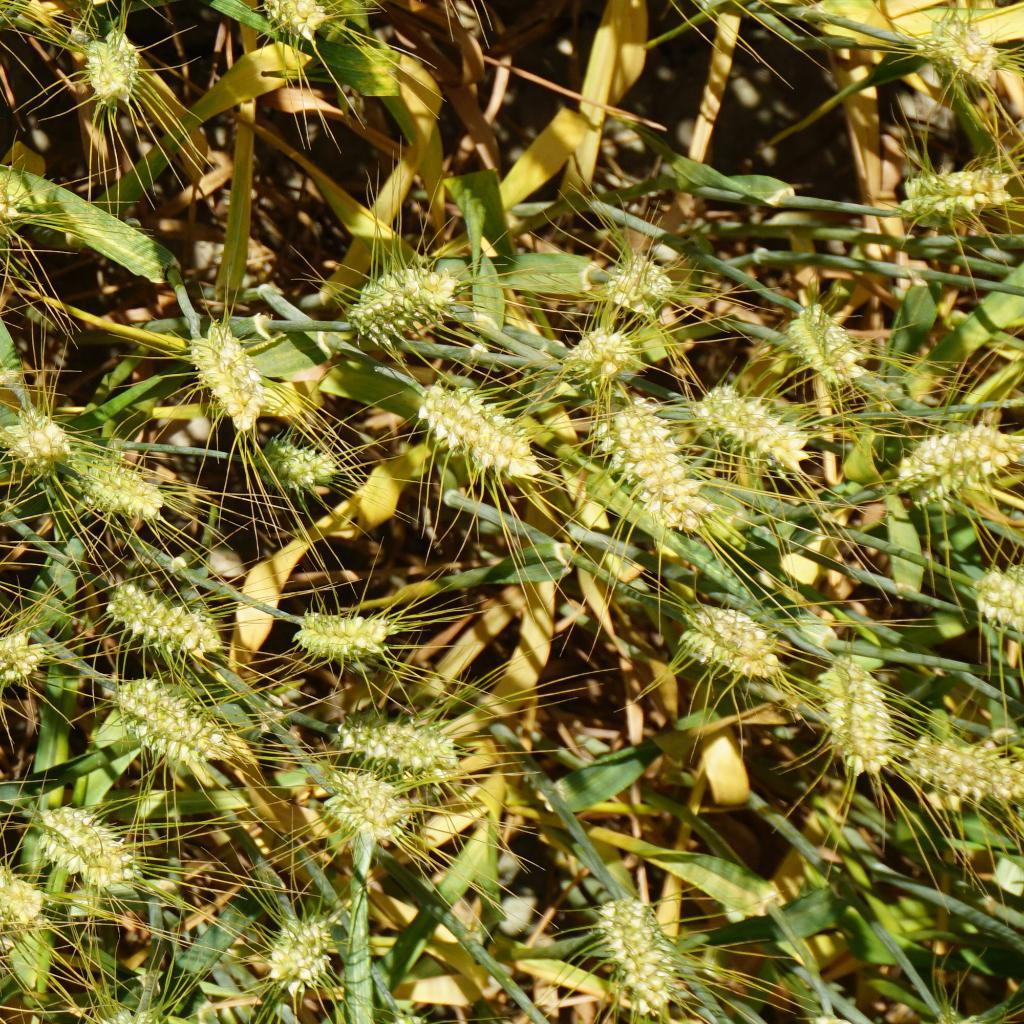0-0: (603, 404, 715, 524), (596, 893, 690, 1021), (117, 677, 240, 769), (816, 645, 898, 771), (696, 379, 802, 472), (421, 388, 534, 475), (911, 735, 1024, 812), (35, 801, 136, 887), (897, 419, 1005, 499), (673, 598, 782, 676), (322, 705, 464, 764), (183, 325, 262, 431), (361, 262, 457, 344), (104, 583, 213, 654), (894, 155, 1008, 217), (779, 305, 862, 382), (600, 247, 683, 323), (77, 451, 161, 515), (330, 772, 410, 837), (76, 23, 139, 98), (928, 22, 1001, 84), (559, 332, 637, 390), (304, 608, 387, 662), (9, 400, 70, 472), (273, 923, 336, 989), (264, 435, 334, 493), (975, 567, 1024, 629), (0, 863, 41, 928), (267, 0, 323, 40), (0, 633, 43, 685), (0, 175, 31, 244)
